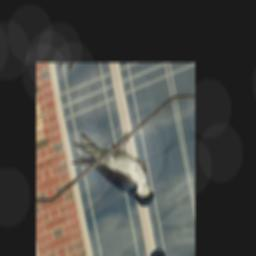Swallow: (65, 108, 156, 233)
